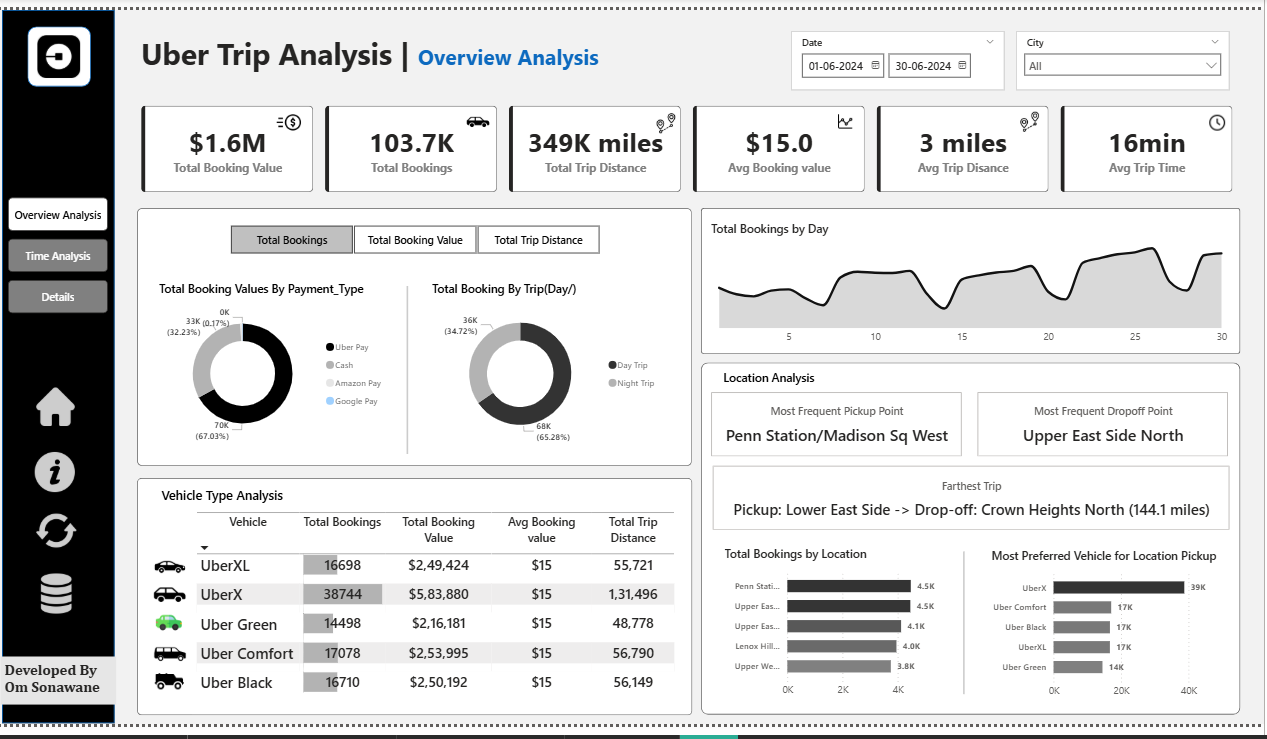

The page's visual inventory and layout, read from the dashboard file:
{"tool":"powerbi","page":{"name":"Overview Analysis","canvas":[1600,900],"ordinal":0},"visuals":[{"type":"shape","box":[8,0,142,900],"z":0},{"type":"textbox","box":[177.9,24.6,601.9,68.1],"z":1000},{"type":"cardVisual","fields":{"Data":["Trip Details.Total Booking Amount","Trip Details.Total Bookings","Trip Details.Total Trip Distance","Trip Details.Avg Booking Amount","Trip Details.Avg Trip Disance","Trip Details.Avg Trip Time"]},"box":[177.9,115.5,1391.2,119.2],"z":2000},{"type":"image","box":[325.9,120.6,87.6,41.2],"z":3000},{"type":"image","box":[582.9,121.2,50,39.4],"z":4000},{"type":"image","box":[819.3,124,52.7,35.3],"z":5000},{"type":"image","box":[1274.4,123.1,63.1,35.6],"z":6000},{"type":"image","box":[1511.9,126.9,57.5,30],"z":7000},{"type":"image","box":[1037,125,69,31],"z":8000},{"type":"shape","box":[178,250.7,700.3,325.6],"z":9000},{"type":"slicer","fields":{"Values":["Dynamic Measure .Dynamic Measure "]},"box":[270.7,265.9,514.8,49.2],"z":10000},{"type":"donutChart","title":" Total Booking Values By Payment_Type","fields":{"Y":["Trip Details.Total Bookings"],"Category":["Trip Details.Payment_type"]},"box":[199.7,340.1,299.5,215.3],"z":11000},{"type":"donutChart","title":" Total Booking  By Trip(Day/)","fields":{"Y":["Trip Details.Total Bookings"],"Category":["Trip Details.Trip Type (Day/Night)"]},"box":[546,340,300,216],"z":12000},{"type":"shape","box":[178.1,591.2,700.8,299.5],"z":13000},{"type":"pivotTable","fields":{"Rows":["Trip Details.Vehicle"],"Values":["Trip Details.Total Bookings","Trip Details.Total Booking Value","Trip Details.Avg Booking value","Trip Details.Total Trip Distance Measure"]},"box":[248,628,626,260],"z":14000},{"type":"image","box":[190.5,675,56,53.5],"z":15000},{"type":"image","box":[193.8,751.8,49.4,42.9],"z":16000},{"type":"image","box":[181.5,824.2,74.2,46.7],"z":17000},{"type":"image","box":[175.2,785,86.7,54.2],"z":18000},{"type":"image","box":[190.3,711,56.5,51.5],"z":19000},{"type":"card","fields":{"Values":["Trip Details.Title for Grid"]},"box":[194.2,600,180,28.3],"z":20000},{"type":"shape","box":[888.7,250.2,680.6,184.2],"z":21000},{"type":"areaChart","fields":{"Category":["Calendar Table.Date.Variation.Date Hierarchy.Day"],"Y":["Trip Details.Total Bookings"]},"box":[897.5,265,663.8,165],"z":22000},{"type":"shape","box":[888.7,444.4,680.6,444.4],"z":23000},{"type":"cardVisual","fields":{"Data":["Trip Details.Most Frequent Pickup Point","Trip Details.Most Frequent Dropoff Point"]},"box":[897.8,477.8,663.3,91.1],"z":24000},{"type":"cardVisual","fields":{"Data":["Trip Details.Farthest Trip"]},"box":[898.9,568.9,662.2,91.1],"z":25000},{"type":"barChart","fields":{"Y":["Trip Details.Total Bookings"],"Category":["Location Table.Location"]},"box":[913.3,675,285,200],"z":26000},{"type":"barChart","title":"Most Preferred Vehicle for Location Pickup","fields":{"Y":["CountNonNull(Trip Details.PULocationID)"],"Category":["Trip Details.Vehicle"]},"box":[1251.1,676.7,298.9,198.9],"z":27000},{"type":"shape","box":[370,348,300,212],"z":28000},{"type":"shape","box":[1072,684,300,180],"z":29000},{"type":"card","fields":{"Values":["Trip Details.Title for Location"]},"box":[897.5,450,151.2,30],"z":30000},{"type":"slicer","fields":{"Values":["Calendar Table.Date"]},"box":[1002.8,25.7,269.4,74.8],"z":31000},{"type":"slicer","fields":{"Values":["Location Table.City"]},"box":[1287.1,25.7,269.4,74.8],"z":32000},{"type":"shape","box":[39.9,20,79.9,75.9],"z":33000},{"type":"image","box":[43.1,26.2,70.8,64.6],"z":34000},{"type":"pageNavigator","box":[15.5,236.4,126.4,146.4],"z":35000},{"type":"image","box":[45.9,465.6,59,69.9],"z":36000},{"type":"image","box":[45.9,699.5,61.2,72.1],"z":37000},{"type":"image","box":[43.7,546.4,61.2,72.1],"z":38000},{"type":"image","box":[45.9,620.8,61.2,72.1],"z":39000},{"type":"textbox","box":[5.7,815.8,145.7,60.6],"z":40001}]}

Visuals, with their boxes on the page's 1600x900 design canvas (x1, y1, x2, y2). These are canvas units, not pixel positions in the 1267x739 screenshot, which may show the page scaled, cropped or inside an application window:
shape: pyautogui.locateOnScreen(8, 0, 150, 900)
textbox: pyautogui.locateOnScreen(178, 25, 780, 93)
cardVisual - Trip Details.Total Booking Amount x Trip Details.Total Bookings: pyautogui.locateOnScreen(178, 116, 1569, 235)
image: pyautogui.locateOnScreen(326, 121, 414, 162)
image: pyautogui.locateOnScreen(583, 121, 633, 161)
image: pyautogui.locateOnScreen(819, 124, 872, 159)
image: pyautogui.locateOnScreen(1274, 123, 1338, 159)
image: pyautogui.locateOnScreen(1512, 127, 1569, 157)
image: pyautogui.locateOnScreen(1037, 125, 1106, 156)
shape: pyautogui.locateOnScreen(178, 251, 878, 576)
slicer - Dynamic Measure .Dynamic Measure : pyautogui.locateOnScreen(271, 266, 786, 315)
" Total Booking Values By Payment_Type" donutChart: pyautogui.locateOnScreen(200, 340, 499, 555)
" Total Booking  By Trip(Day/)" donutChart: pyautogui.locateOnScreen(546, 340, 846, 556)
shape: pyautogui.locateOnScreen(178, 591, 879, 891)
pivotTable - Trip Details.Vehicle x Trip Details.Total Bookings: pyautogui.locateOnScreen(248, 628, 874, 888)
image: pyautogui.locateOnScreen(190, 675, 246, 728)
image: pyautogui.locateOnScreen(194, 752, 243, 795)
image: pyautogui.locateOnScreen(182, 824, 256, 871)
image: pyautogui.locateOnScreen(175, 785, 262, 839)
image: pyautogui.locateOnScreen(190, 711, 247, 762)
card - Trip Details.Title for Grid: pyautogui.locateOnScreen(194, 600, 374, 628)
shape: pyautogui.locateOnScreen(889, 250, 1569, 434)
areaChart - Calendar Table.Date.Variation.Date Hierarchy.Day x Trip Details.Total Bookings: pyautogui.locateOnScreen(898, 265, 1561, 430)
shape: pyautogui.locateOnScreen(889, 444, 1569, 889)
cardVisual - Trip Details.Most Frequent Pickup Point x Trip Details.Most Frequent Dropoff Point: pyautogui.locateOnScreen(898, 478, 1561, 569)
cardVisual - Trip Details.Farthest Trip: pyautogui.locateOnScreen(899, 569, 1561, 660)
barChart - Trip Details.Total Bookings x Location Table.Location: pyautogui.locateOnScreen(913, 675, 1198, 875)
"Most Preferred Vehicle for Location Pickup" barChart: pyautogui.locateOnScreen(1251, 677, 1550, 876)
shape: pyautogui.locateOnScreen(370, 348, 670, 560)
shape: pyautogui.locateOnScreen(1072, 684, 1372, 864)
card - Trip Details.Title for Location: pyautogui.locateOnScreen(898, 450, 1049, 480)
slicer - Calendar Table.Date: pyautogui.locateOnScreen(1003, 26, 1272, 100)
slicer - Location Table.City: pyautogui.locateOnScreen(1287, 26, 1556, 100)
shape: pyautogui.locateOnScreen(40, 20, 120, 96)
image: pyautogui.locateOnScreen(43, 26, 114, 91)
pageNavigator: pyautogui.locateOnScreen(16, 236, 142, 383)
image: pyautogui.locateOnScreen(46, 466, 105, 536)
image: pyautogui.locateOnScreen(46, 700, 107, 772)
image: pyautogui.locateOnScreen(44, 546, 105, 618)
image: pyautogui.locateOnScreen(46, 621, 107, 693)
textbox: pyautogui.locateOnScreen(6, 816, 151, 876)
